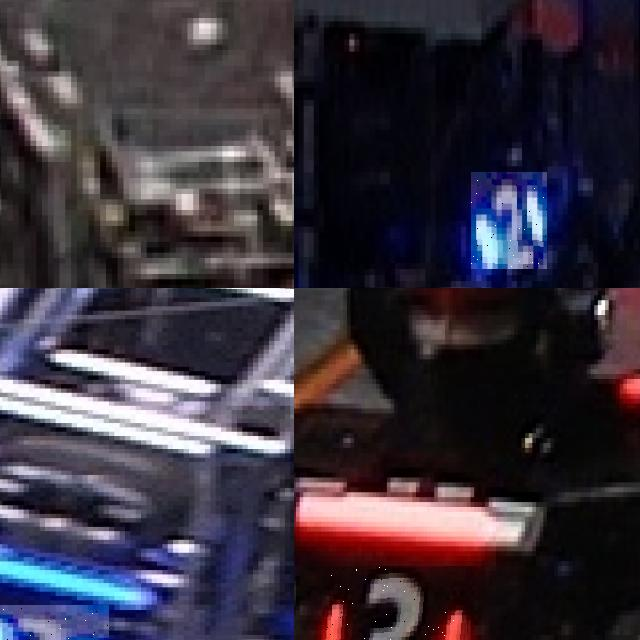B2: (472, 172, 548, 269), (0, 605, 109, 640)
R3: (321, 566, 474, 640)
